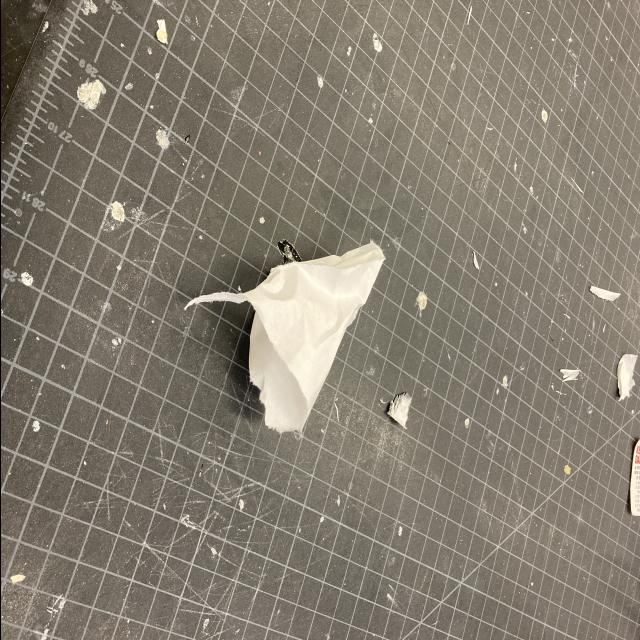paper: (176, 231, 400, 443)
trash-zQNu: (170, 228, 400, 442)
